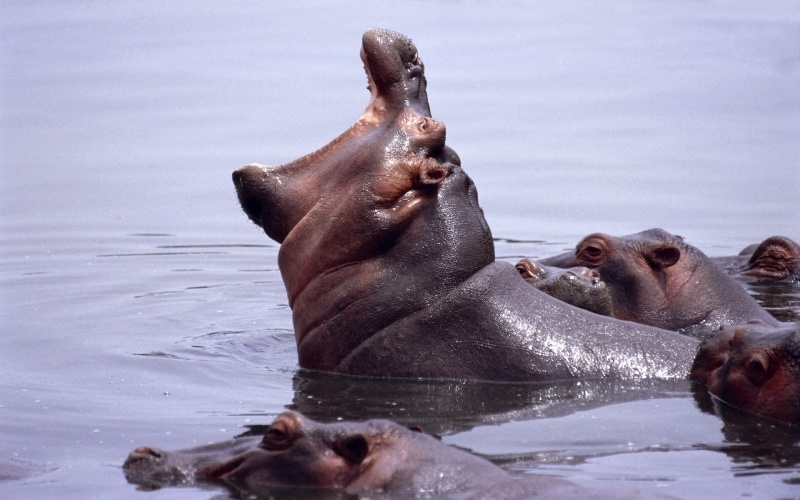hipopotamo: (225, 22, 708, 414), (119, 409, 531, 500), (535, 234, 783, 349), (509, 252, 622, 335)
